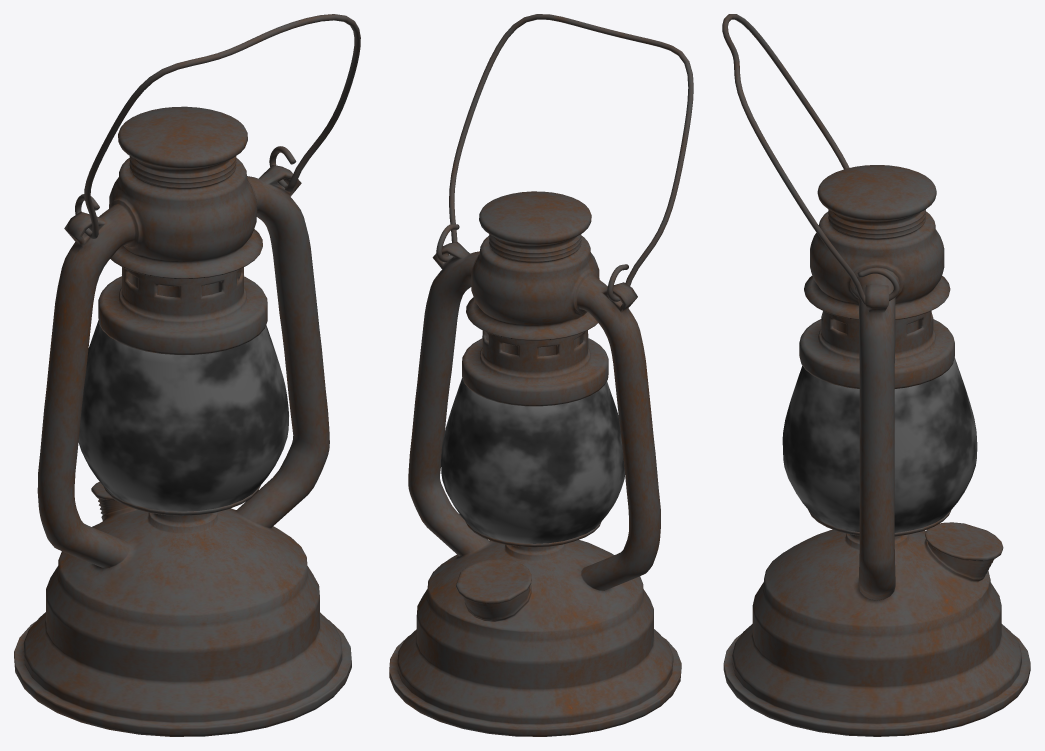
File: oldLantern.fbx
The picture shows the model from 3 angles, left to right: view 1: azimuth 30°, elevation 25°; view 2: azimuth 150°, elevation 25°; view 3: azimuth 270°, elevation 25°; orthographic projection. The views are drawn at different scales.
Parts seen in each view (by area): view 1: body a classic lantern, glass a classic lantern, hold a classic lantern; view 2: body a classic lantern, glass a classic lantern, hold a classic lantern; view 3: body a classic lantern, glass a classic lantern, hold a classic lantern.
Part boxes in pixels (box(x1,y1,x2,y2)): body a classic lantern: box(14, 106, 351, 736); glass a classic lantern: box(78, 320, 288, 511); hold a classic lantern: box(75, 14, 360, 238); body a classic lantern: box(389, 191, 681, 736); glass a classic lantern: box(441, 378, 624, 543); hold a classic lantern: box(436, 14, 693, 301); body a classic lantern: box(723, 165, 1030, 736); glass a classic lantern: box(782, 357, 977, 532); hold a classic lantern: box(722, 14, 899, 304).
Bounding box in the file's own units: 271 × 614 × 272.
